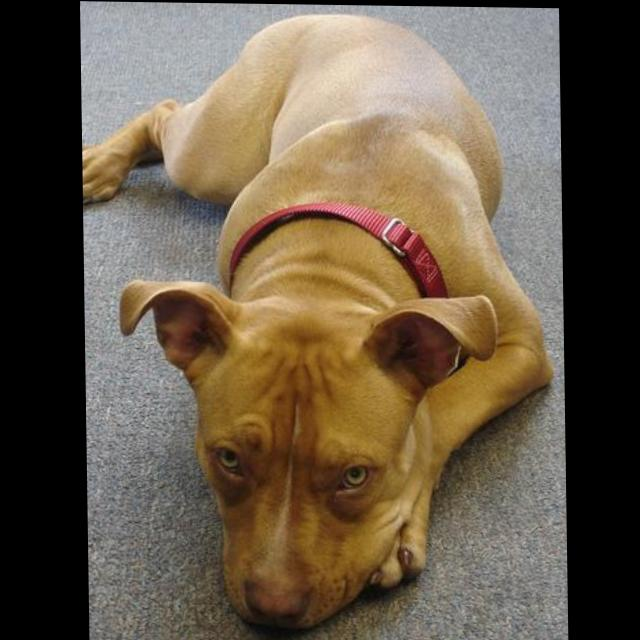amstaff: (82, 9, 560, 634)
